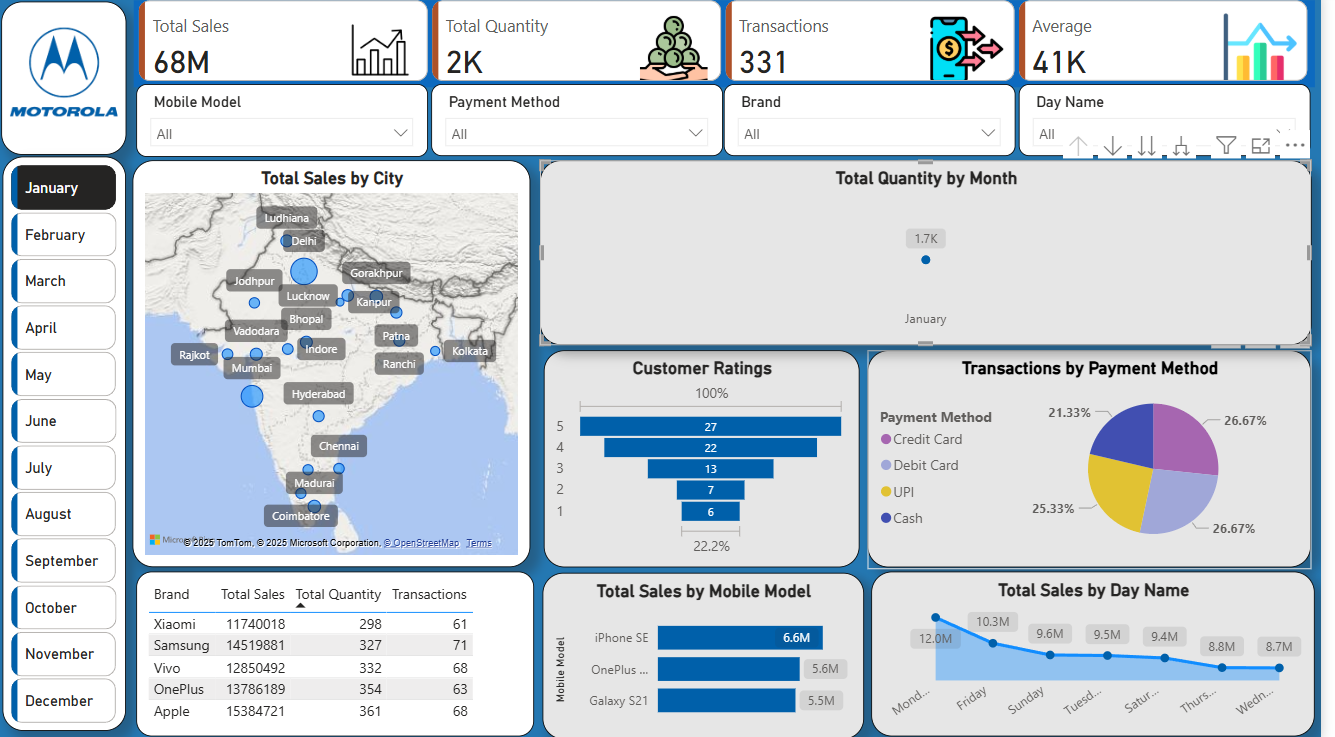

This screenshot's page, from the dashboard's own definition file:
{"tool":"powerbi","page":{"name":"Page 1","canvas":[1280,720],"ordinal":0},"visuals":[{"type":"shape","box":[5.5,6.9,120.8,148.2],"z":0},{"type":"image","box":[9.6,16.5,113.9,116.6],"z":1000},{"type":"shape","box":[6.9,156.4,119.4,554.4],"z":2000},{"type":"advancedSlicerVisual","fields":{"Values":["Sales_Data.Date.Variation.Date Hierarchy.Month"]},"box":[11,160.5,111.1,548.9],"z":3000},{"type":"cardVisual","fields":{"Data":["Sales_Data.Total Sales","Sales_Data.Total Quantity","Sales_Data.Transactions","Sales_Data.Average"]},"box":[134,5.6,1140.1,83.7],"z":4000},{"type":"map","fields":{"Category":["Sales_Data.City"],"Size":["Sales_Data.Total Sales"]},"box":[132.9,160.8,384.1,393.1],"z":5000},{"type":"lineChart","fields":{"Y":["Sales_Data.Total Quantity"],"Category":["Sales_Data.Date.Variation.Date Hierarchy.Month","Sales_Data.Date.Variation.Date Hierarchy.Day"]},"box":[525.9,160.8,744.8,178.7],"z":6000},{"type":"clusteredBarChart","fields":{"Category":["Sales_Data.Mobile Model"],"Y":["Sales_Data.Total Sales"]},"box":[528.3,558.5,310.1,160.5],"z":7000},{"type":"pieChart","fields":{"Category":["Sales_Data.Payment Method"],"Y":["Sales_Data.Transactions"]},"box":[842.5,344.4,428.1,209.9],"z":8000},{"type":"funnel","title":"Customer Ratings","fields":{"Category":["Sales_Data.Customer Ratings"],"Y":["Sum(Sales_Data.Customer Ratings)"]},"box":[529.7,344.4,304.6,209.9],"z":9000},{"type":"areaChart","fields":{"Category":["Sales_Data.Day Name"],"Y":["Sales_Data.Total Sales"]},"box":[845.3,557.1,428.1,159.2],"z":10000},{"type":"tableEx","fields":{"Values":["Sales_Data.Brand","Sales_Data.Total Sales","Sales_Data.Total Quantity","Sales_Data.Transactions"]},"box":[135.8,557.1,384.2,159.2],"z":11000},{"type":"slicer","fields":{"Values":["Sales_Data.Mobile Model"]},"box":[136.2,87.1,281.4,70.3],"z":12000},{"type":"slicer","fields":{"Values":["Sales_Data.Payment Method"]},"box":[421,87.1,281.4,69.2],"z":13000},{"type":"slicer","fields":{"Values":["Sales_Data.Brand"]},"box":[703.5,87.1,281.4,69.2],"z":14000},{"type":"slicer","fields":{"Values":["Sales_Data.Day Name"]},"box":[988.2,87.1,281.4,69.2],"z":15000}]}

Visuals, with their boxes in screenshot pixels (x1, y1, x2, y2), scaled from the page's 1280x720 canvas onto the 1335x737 screenshot:
shape: bbox=(6, 7, 132, 159)
image: bbox=(10, 17, 129, 136)
shape: bbox=(7, 160, 132, 728)
advancedSlicerVisual - Sales_Data.Date.Variation.Date Hierarchy.Month: bbox=(11, 164, 127, 726)
cardVisual - Sales_Data.Total Sales x Sales_Data.Total Quantity: bbox=(140, 6, 1329, 91)
map - Sales_Data.City x Sales_Data.Total Sales: bbox=(139, 165, 539, 567)
lineChart - Sales_Data.Total Quantity x Sales_Data.Date.Variation.Date Hierarchy.Month: bbox=(548, 165, 1325, 348)
clusteredBarChart - Sales_Data.Mobile Model x Sales_Data.Total Sales: bbox=(551, 572, 874, 736)
pieChart - Sales_Data.Payment Method x Sales_Data.Transactions: bbox=(879, 353, 1325, 567)
"Customer Ratings" funnel: bbox=(552, 353, 870, 567)
areaChart - Sales_Data.Day Name x Sales_Data.Total Sales: bbox=(882, 570, 1328, 733)
tableEx - Sales_Data.Brand x Sales_Data.Total Sales: bbox=(142, 570, 542, 733)
slicer - Sales_Data.Mobile Model: bbox=(142, 89, 436, 161)
slicer - Sales_Data.Payment Method: bbox=(439, 89, 733, 160)
slicer - Sales_Data.Brand: bbox=(734, 89, 1027, 160)
slicer - Sales_Data.Day Name: bbox=(1031, 89, 1324, 160)
